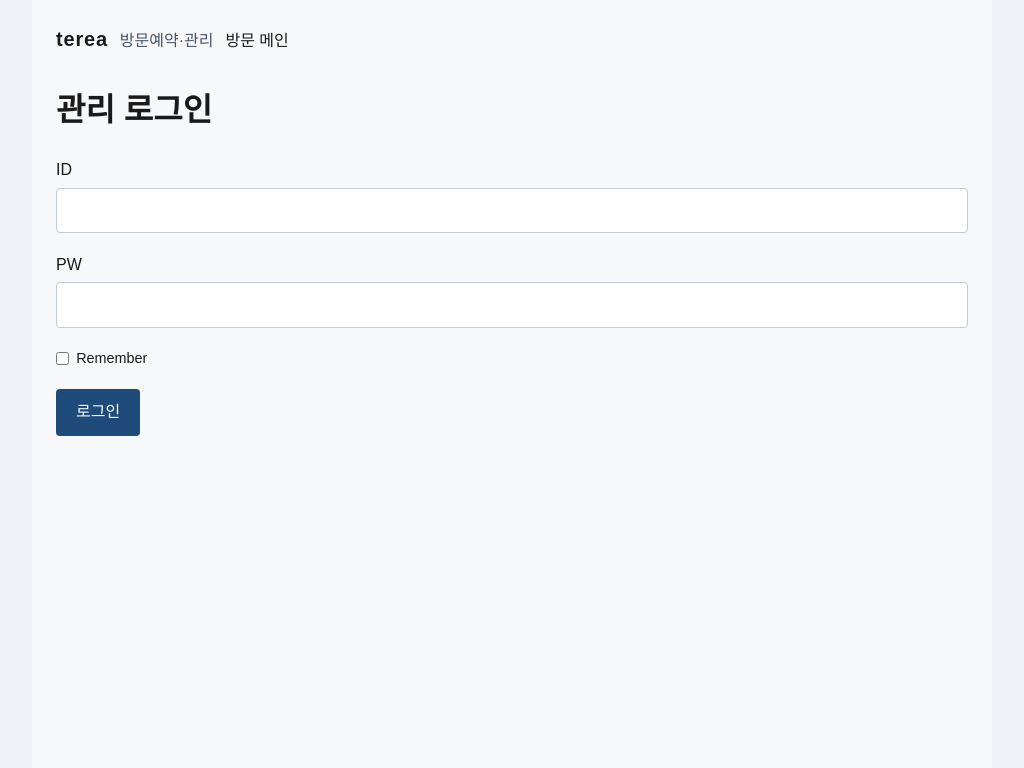
Scenario: R25: 관리자 UX 수정 › 탭 닫기·로그아웃·Remember가 동작한다
This screenshot has width=1024, height=768.
Expected: the checkbox labelled "Remember" is shown, x1=56 y1=352 x2=69 y2=365
Type "admin" into the field labelled "ID".
click(512, 210); type("admin")  # box x1=56 y1=188 x2=968 y2=233
Type "1234" into the password field labelled "PW".
click(512, 305); type("1234")  # box x1=56 y1=282 x2=968 y2=328
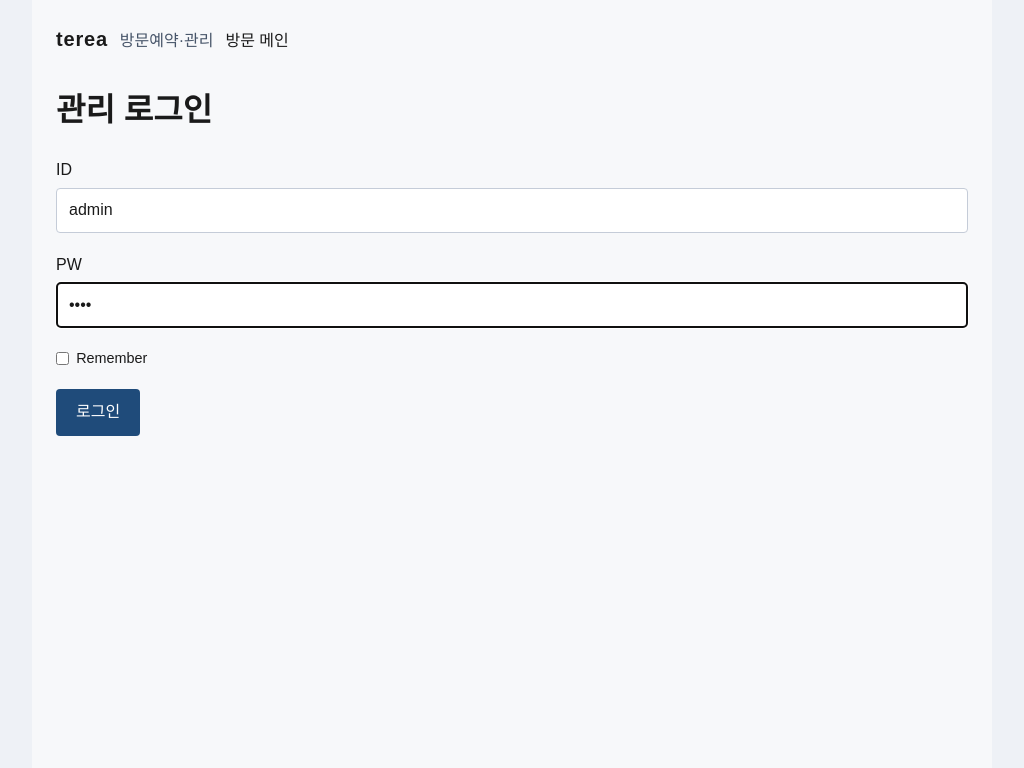
Click the checkbox labelled "Remember".
click(62, 358)  # box x1=56 y1=352 x2=69 y2=365
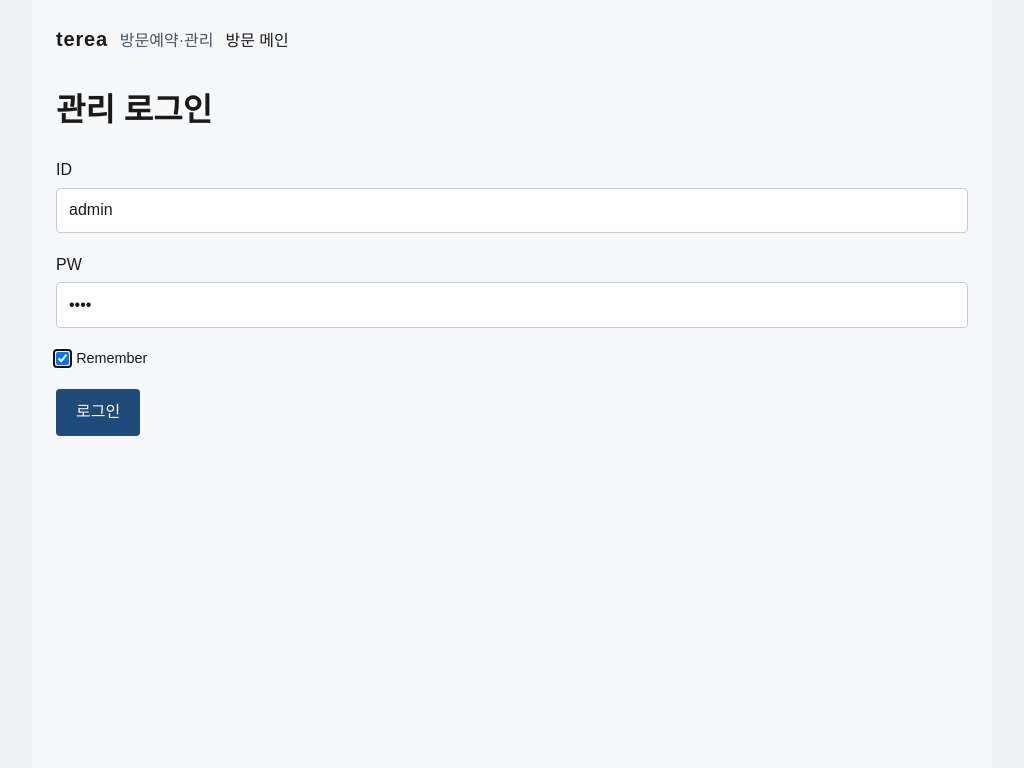
Click the button "로그인".
click(98, 412)  # box x1=56 y1=389 x2=140 y2=436
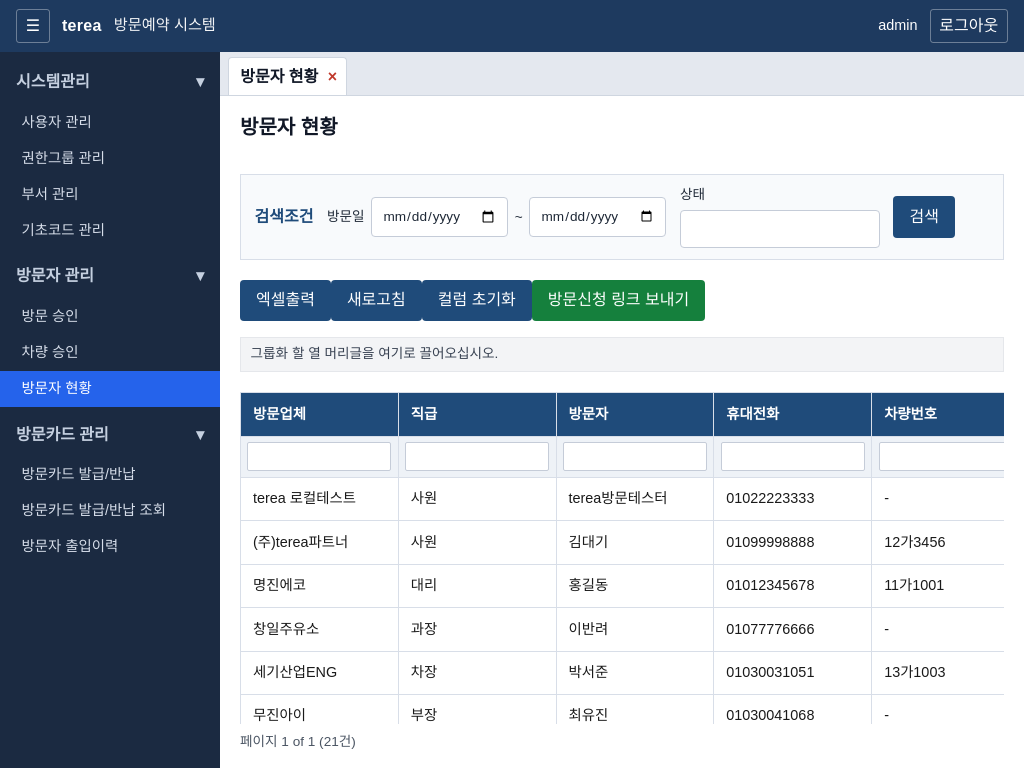
Click the link "방문 승인".
click(50, 316)  # box x1=22 y1=308 x2=79 y2=324
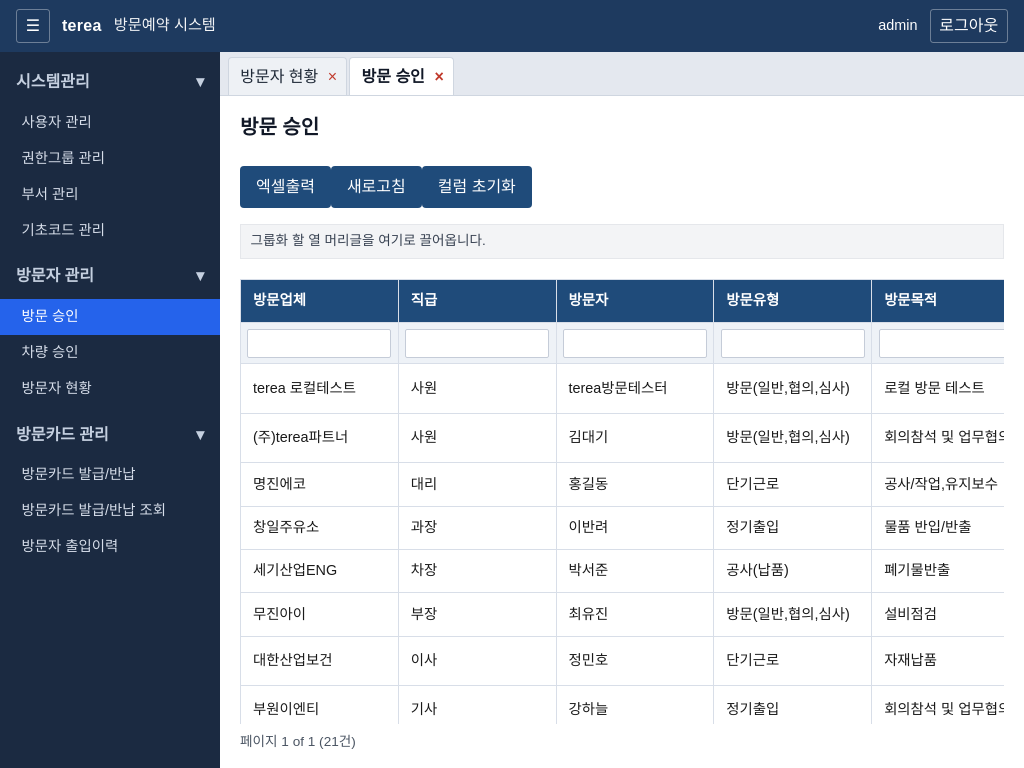
Now the tab "방문 승인 ×" is shown, box x1=349 y1=57 x2=454 y2=95
Click the button named "방문 승인 닫기".
click(439, 77)  # box x1=431 y1=69 x2=447 y2=85
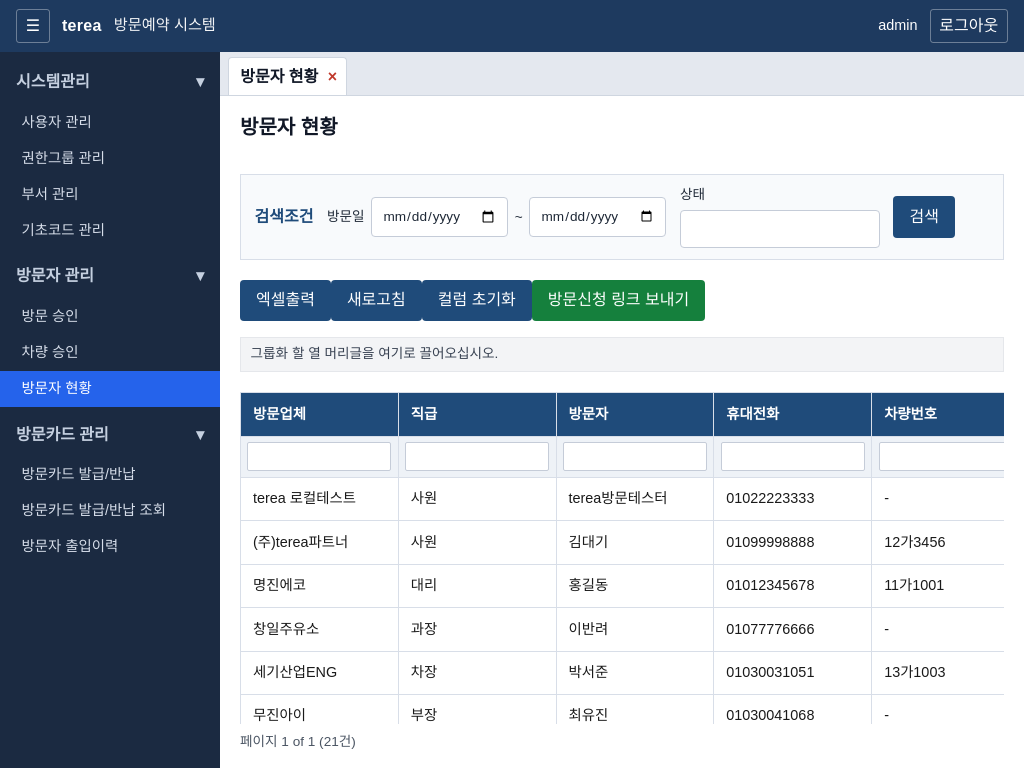
Click the button "로그아웃".
click(969, 26)  # box x1=930 y1=9 x2=1008 y2=43
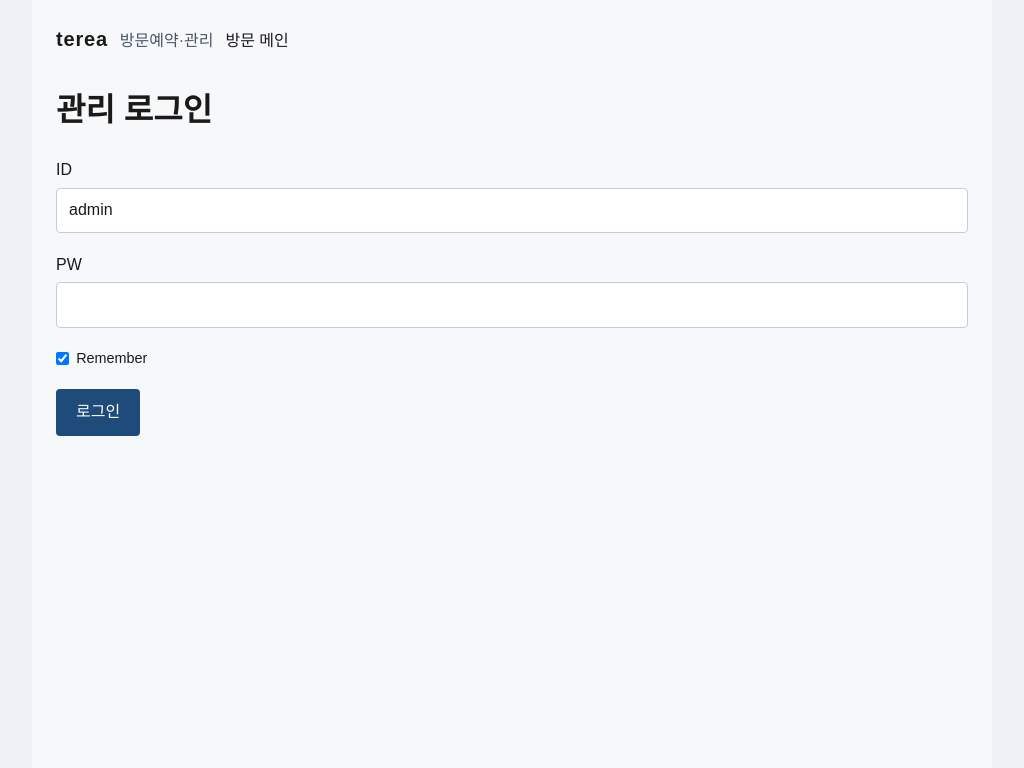
Now the heading "관리 로그인" is shown, box x1=56 y1=92 x2=212 y2=128
Now the field labelled "ID" holds "admin", box x1=56 y1=188 x2=968 y2=233
